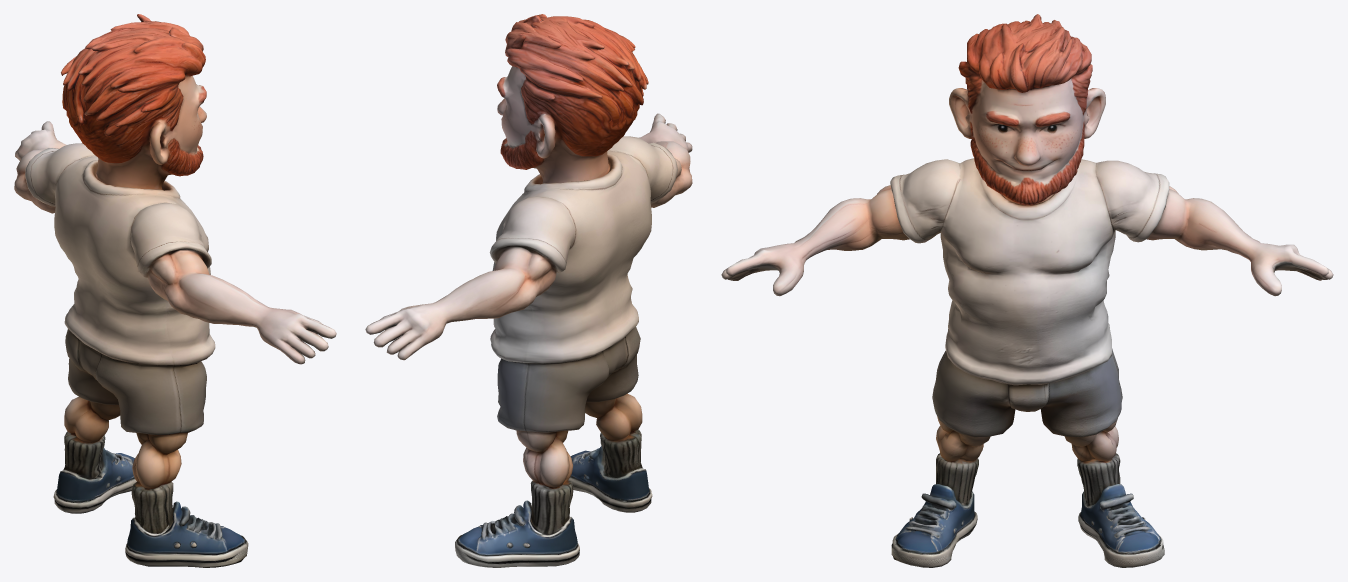
The picture shows the model from 3 angles, left to right: view 1: azimuth 30°, elevation 25°; view 2: azimuth 150°, elevation 25°; view 3: azimuth 270°, elevation 25°; orthographic projection. The views are drawn at different scales.
Visible parts, largest first — view 1: tripo_node_491098da; view 2: tripo_node_491098da; view 3: tripo_node_491098da.
Boxes of the visible parts, bbox=[...] form: tripo_node_491098da: bbox=[14, 14, 336, 567]; tripo_node_491098da: bbox=[365, 14, 692, 567]; tripo_node_491098da: bbox=[721, 14, 1333, 567].
Bounding box in the file's own units: 26.61 × 92.56 × 100.
Materials: 1 (1 with a texture image).
